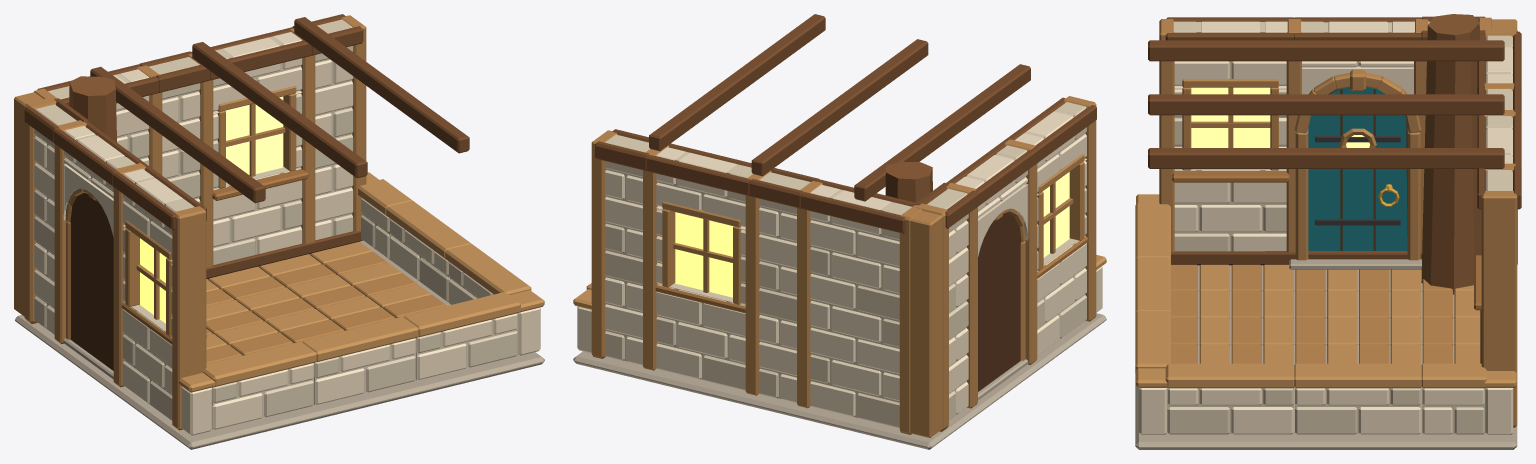
Rendered from treehouse_interior.glb.
The picture shows the model from 3 angles, left to right: view 1: azimuth 30°, elevation 25°; view 2: azimuth 150°, elevation 25°; view 3: azimuth 270°, elevation 25°; orthographic projection. The views are drawn at different scales.
Parts seen in each view (by area): view 1: treehouse_interior; view 2: treehouse_interior; view 3: treehouse_interior, part_door_leaf.
Boxes of the visible parts, x1=… form: treehouse_interior: x1=14, y1=14, x2=544, y2=449; treehouse_interior: x1=573, y1=14, x2=1106, y2=449; treehouse_interior: x1=1135, y1=14, x2=1521, y2=449; part_door_leaf: x1=1308, y1=87, x2=1407, y2=250.
Size of the model in its own units: 3.53 by 2.32 by 3.03.
